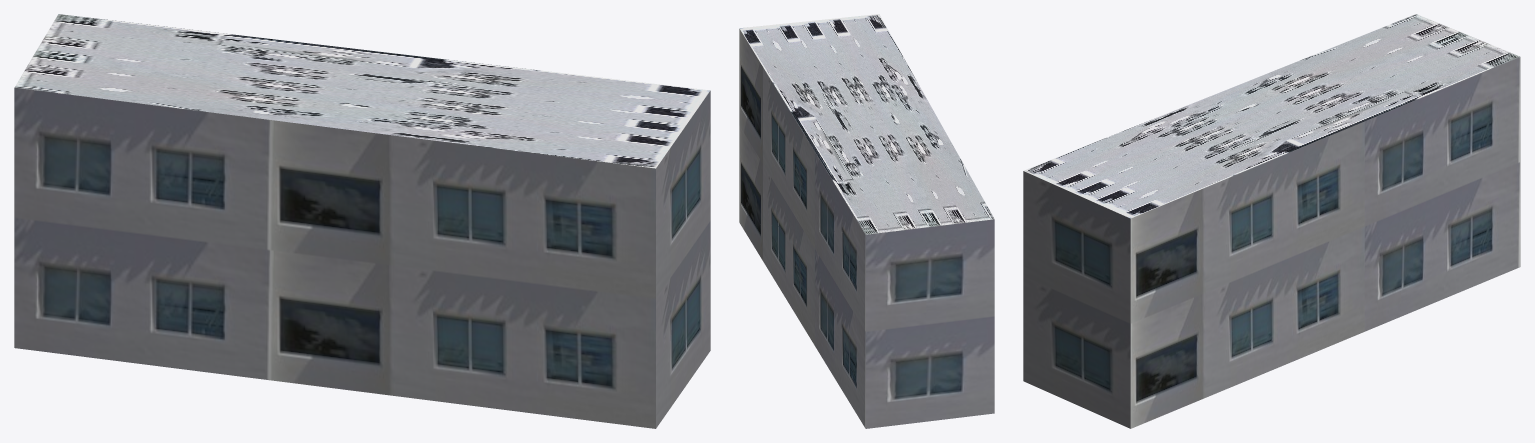
The model's file is ResTex__1542.fbx.
The picture shows the model from 3 angles, left to right: view 1: azimuth 30°, elevation 25°; view 2: azimuth 150°, elevation 25°; view 3: azimuth 270°, elevation 25°; orthographic projection. The views are drawn at different scales.
Parts seen in each view (by area): view 1: CityEngineMaterial_10_m, CityEngineMaterial_4_m; view 2: CityEngineMaterial_10_m, CityEngineMaterial_4_m; view 3: CityEngineMaterial_10_m, CityEngineMaterial_4_m.
Boxes of the visible parts, bbox=[...] form: CityEngineMaterial_10_m: bbox=[14, 87, 710, 428]; CityEngineMaterial_4_m: bbox=[14, 14, 710, 168]; CityEngineMaterial_10_m: bbox=[739, 29, 994, 428]; CityEngineMaterial_4_m: bbox=[739, 14, 994, 234]; CityEngineMaterial_10_m: bbox=[1023, 57, 1520, 428]; CityEngineMaterial_4_m: bbox=[1024, 14, 1519, 218].
Size of the model in its own units: 12.52 by 6 by 12.86.
Materials: 2 (2 with a texture image).
